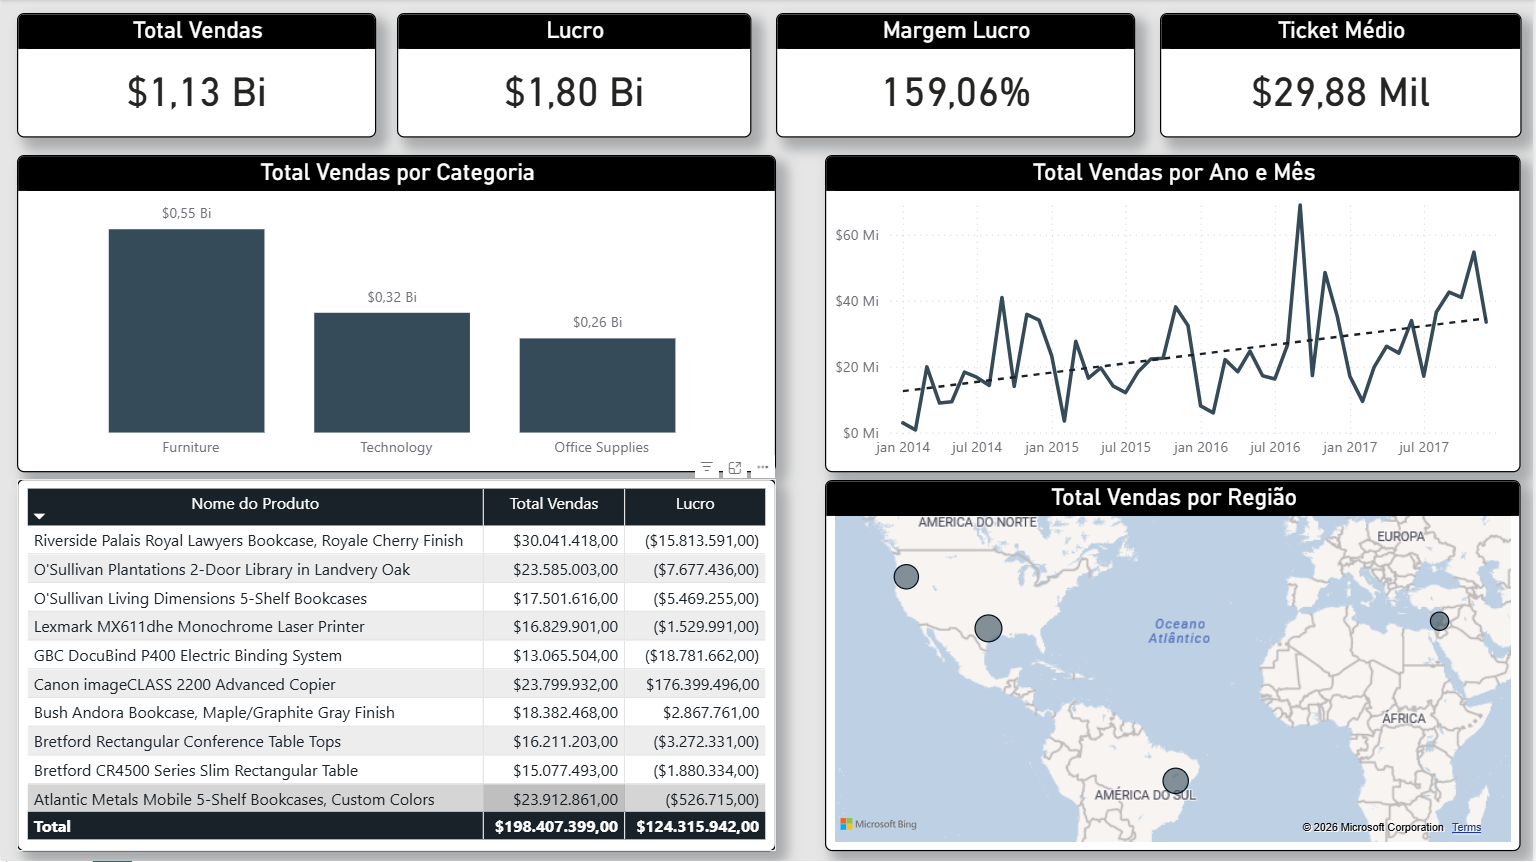

The dashboard page shown, as its layout file describes it:
{"tool":"powerbi","page":{"name":"Página 1","canvas":[1280,720],"ordinal":0},"visuals":[{"type":"card","title":"Total Vendas","fields":{"Values":["SuperStore_data.TotalVendas"]},"box":[13.4,11.7,299.9,103.6],"z":0},{"type":"card","title":"Lucro","fields":{"Values":["SuperStore_data.Lucro"]},"box":[330.8,11.7,295.7,103.6],"z":1000},{"type":"card","title":"Margem Lucro","fields":{"Values":["SuperStore_data.MargemLucro"]},"box":[647.3,11.7,299.9,103.6],"z":2000},{"type":"card","title":"Ticket Médio","fields":{"Values":["SuperStore_data.TicketMedio"]},"box":[968.1,11.7,301.5,103.6],"z":3000},{"type":"lineChart","title":"Total Vendas por Ano e Mês","fields":{"Category":["SuperStore_data.Order Date.Variation.Hierarquia de datas.Ano","SuperStore_data.Order Date.Variation.Hierarquia de datas.Mês"],"Y":["SuperStore_data.TotalVendas"]},"box":[688.3,130.6,581.3,264.8],"z":4000},{"type":"clusteredColumnChart","title":"Total Vendas por Categoria","fields":{"Category":["SuperStore_data.Category"],"Y":["SuperStore_data.TotalVendas"]},"box":[13.5,130.2,633.8,264.8],"z":5000},{"type":"tableEx","fields":{"Values":["SuperStore_data.Product Name","SuperStore_data.TotalVendas","SuperStore_data.Lucro"]},"box":[13.5,401.3,633.8,310.6],"z":6000},{"type":"map","title":"Total Vendas por Região","fields":{"Category":["SuperStore_data.Region"],"Size":["SuperStore_data.TotalVendas"]},"box":[688.3,401.7,581.3,310.1],"z":7000}]}

Visuals, with their boxes in screenshot pixels (x1, y1, x2, y2), scaled from the page's 1280x720 canvas onto the 1536x862 screenshot:
"Total Vendas" card: x1=16 y1=14 x2=376 y2=138
"Lucro" card: x1=397 y1=14 x2=752 y2=138
"Margem Lucro" card: x1=777 y1=14 x2=1137 y2=138
"Ticket Médio" card: x1=1162 y1=14 x2=1524 y2=138
"Total Vendas por Ano e Mês" lineChart: x1=826 y1=156 x2=1524 y2=473
"Total Vendas por Categoria" clusteredColumnChart: x1=16 y1=156 x2=777 y2=473
tableEx - SuperStore_data.Product Name x SuperStore_data.TotalVendas: x1=16 y1=480 x2=777 y2=852
"Total Vendas por Região" map: x1=826 y1=481 x2=1524 y2=852
